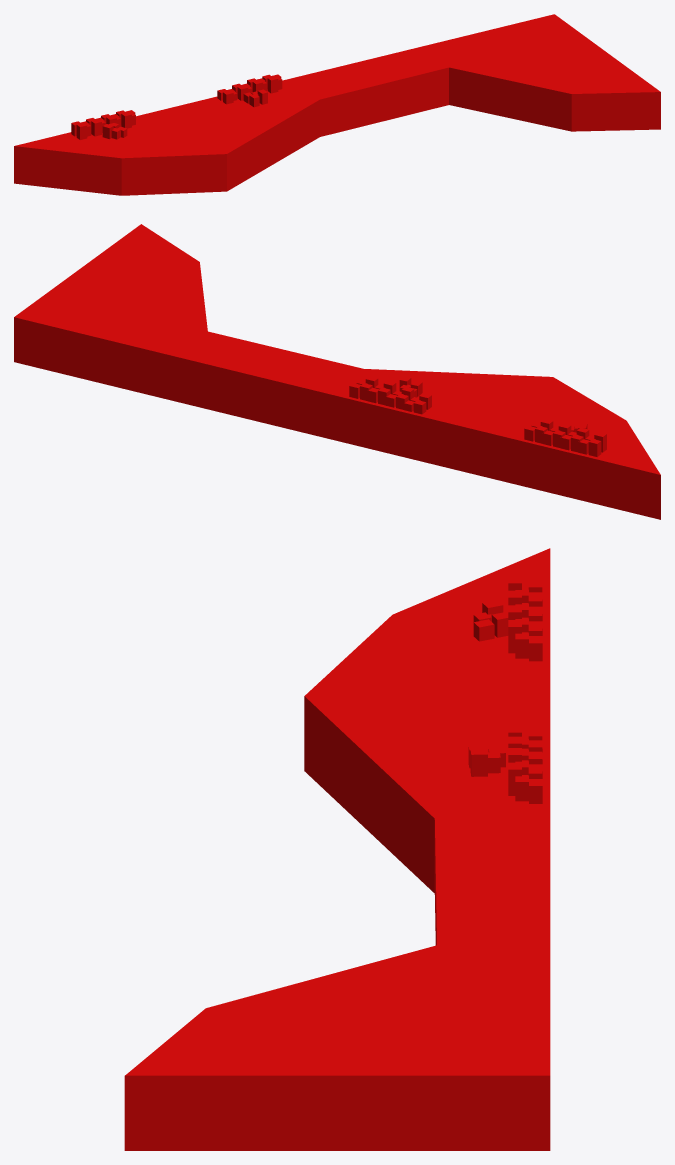
File: red 4.fbx
3 views of the same model, one above another, from view 1: azimuth 30°, elevation 25°; view 2: azimuth 150°, elevation 25°; view 3: azimuth 270°, elevation 25° (orthographic). The views are drawn at different scales.
Visible parts, largest first — view 1: polySurface7; view 2: polySurface7; view 3: polySurface7.
Part boxes in pixels (left/top/right/bottom): polySurface7: left=14, top=14, right=660, bottom=195; polySurface7: left=14, top=224, right=660, bottom=519; polySurface7: left=124, top=548, right=550, bottom=1150.
Bounding box in the file's own units: 450 × 40.21 × 153.
